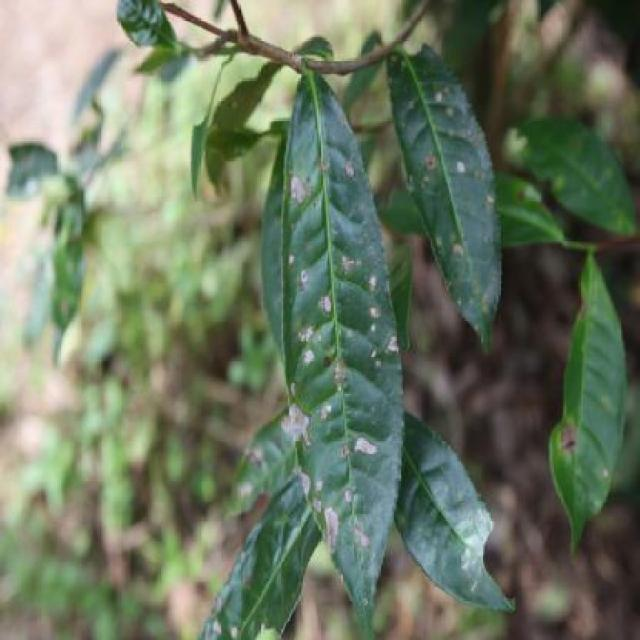Leaf rust of tea: (273, 81, 389, 640), (406, 29, 514, 343)
